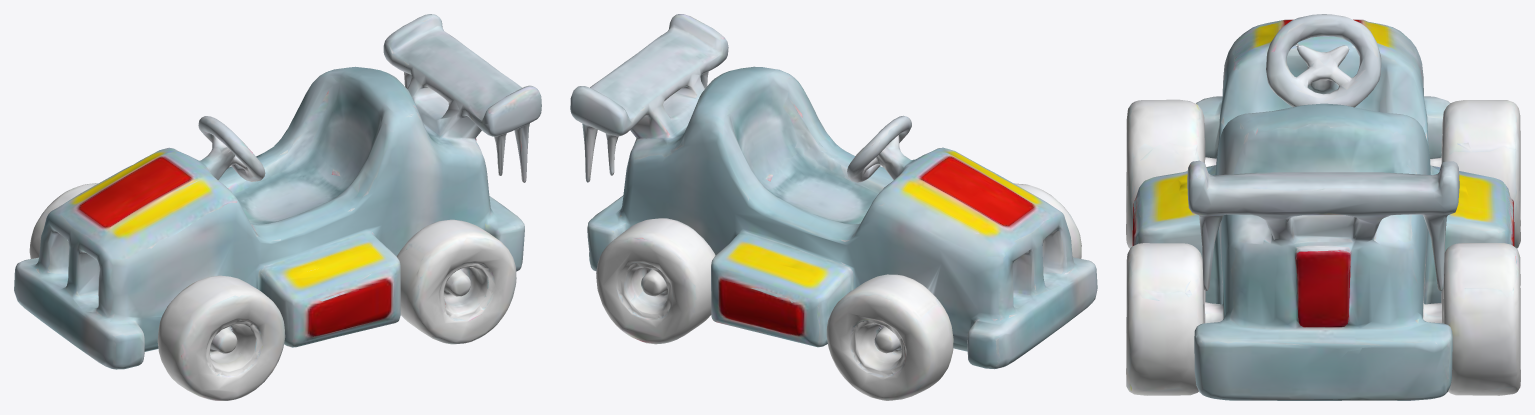
Rendered from w3-ice.glb.
3 views of the same model, side by side, from view 1: azimuth 30°, elevation 25°; view 2: azimuth 150°, elevation 25°; view 3: azimuth 270°, elevation 25° (orthographic). The views are drawn at different scales.
Parts seen in each view (by area): view 1: Mesh_0; view 2: Mesh_0; view 3: Mesh_0.
Part boxes in pixels (bbox=[...]): Mesh_0: bbox=[14, 14, 541, 400]; Mesh_0: bbox=[570, 14, 1097, 400]; Mesh_0: bbox=[1126, 14, 1520, 400].
Bounding box in the file's own units: 1.9 × 0.9146 × 1.19.
Materials: 1 (1 with a texture image).
